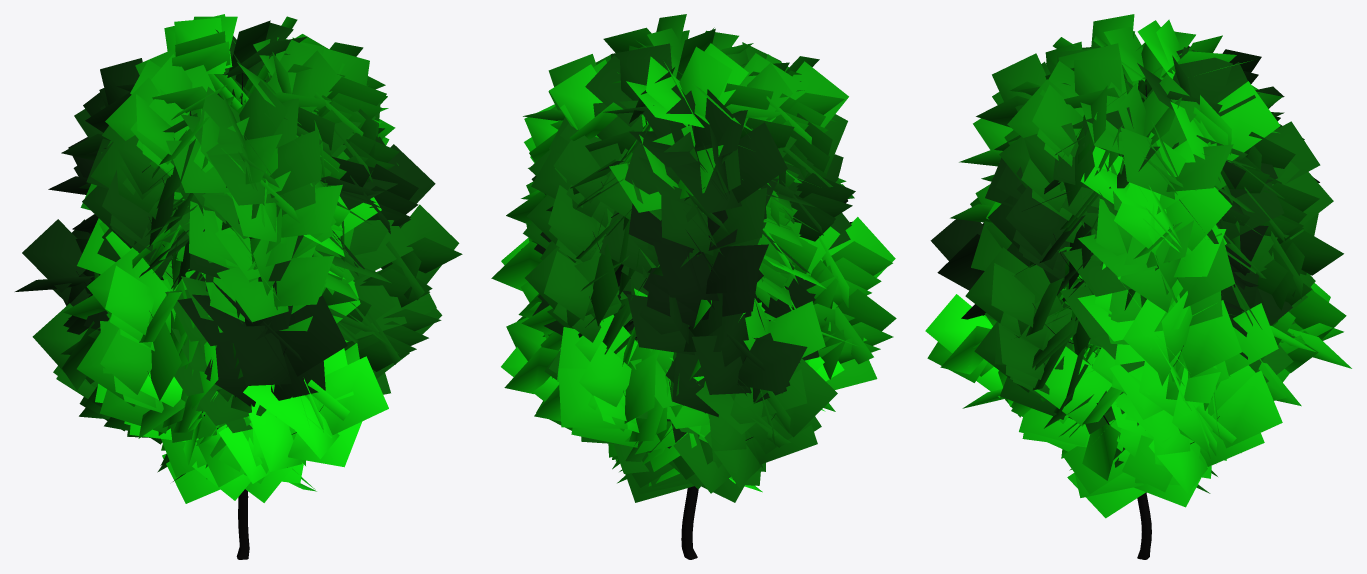
Rendered from Maple_13.fbx.
The picture shows the model from 3 angles, left to right: view 1: azimuth 30°, elevation 25°; view 2: azimuth 150°, elevation 25°; view 3: azimuth 270°, elevation 25°; orthographic projection.
Visible parts, largest first — view 1: Maple_13; view 2: Maple_13; view 3: Maple_13.
Part boxes in pixels (box(x1,y1,x2,y2)): Maple_13: box(15, 14, 462, 559); Maple_13: box(491, 14, 896, 559); Maple_13: box(925, 14, 1351, 559).
Bounding box in the file's own units: 550 × 794 × 593.
